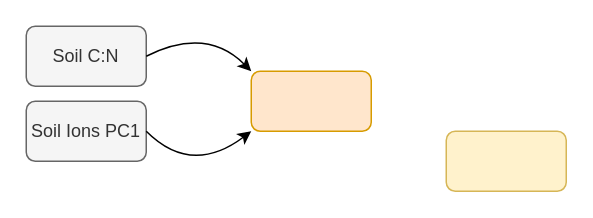
Some shapes in this 593 by 218 pixel diagram are drawn without their labels. The shapes that lost their labels are listed below. From the top down, each one's box as (x1, y1, x2, y2) in pixels, then its label:
(250, 70, 371, 131): N trees
(445, 130, 566, 191): Biomass
